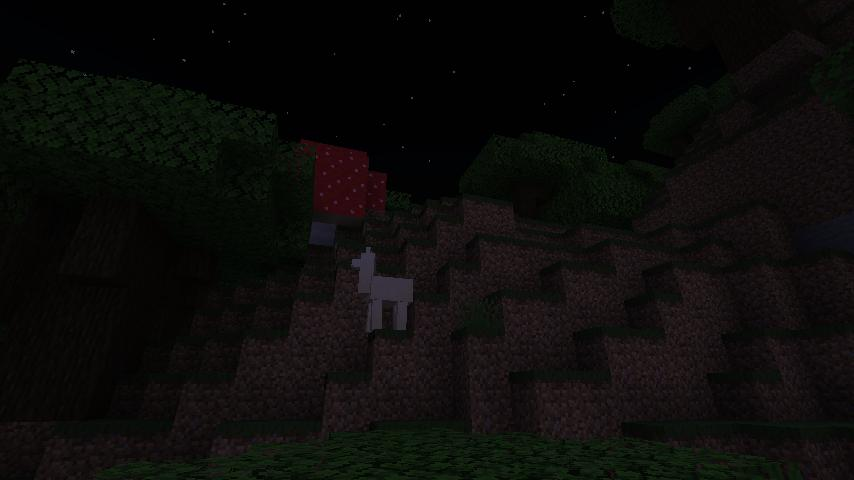llama: (349, 246, 418, 334)
